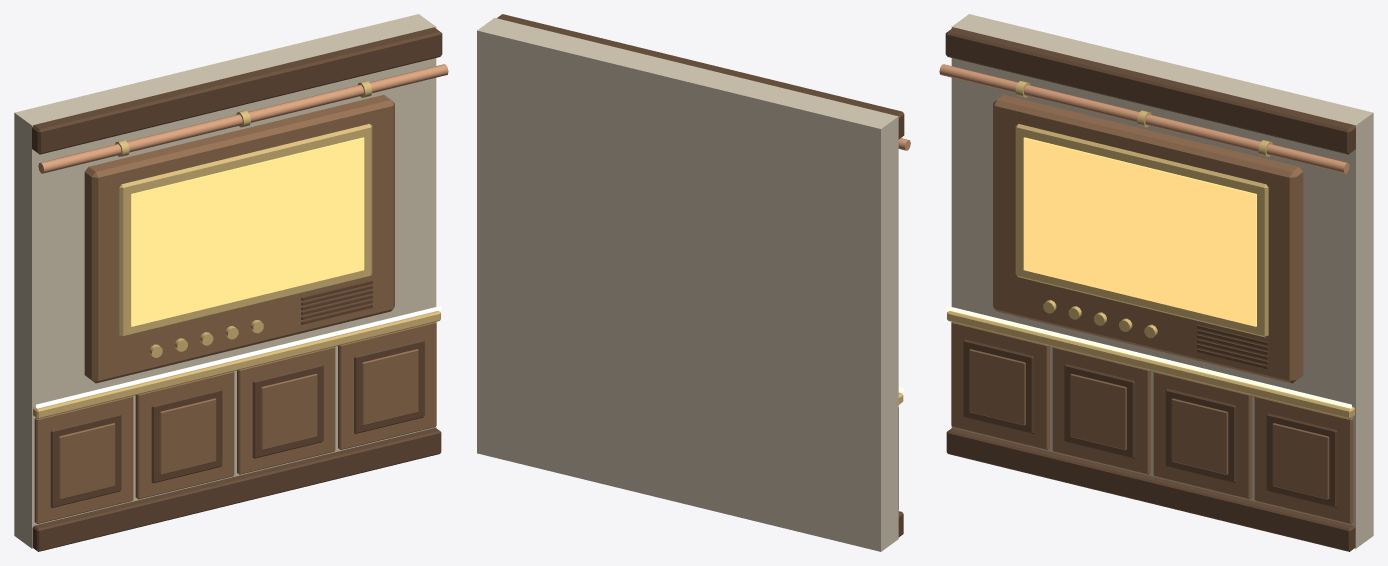
Rendered from wall_hm_screen.glb.
3 renders of one model, left to right at view 1: azimuth 30°, elevation 25°; view 2: azimuth 150°, elevation 25°; view 3: azimuth 330°, elevation 25°, orthographic.
Visible parts, largest first — view 1: wall_hm_screen; view 2: wall_hm_screen; view 3: wall_hm_screen.
Part boxes in pixels (x1,y1,x2,y2): wall_hm_screen: [14, 14, 448, 551]; wall_hm_screen: [477, 14, 910, 551]; wall_hm_screen: [939, 14, 1373, 551].
Bounding box in the file's own units: 4 × 4 × 0.545.
